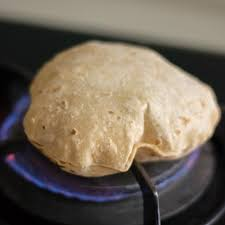roti: (35, 36, 217, 167)
